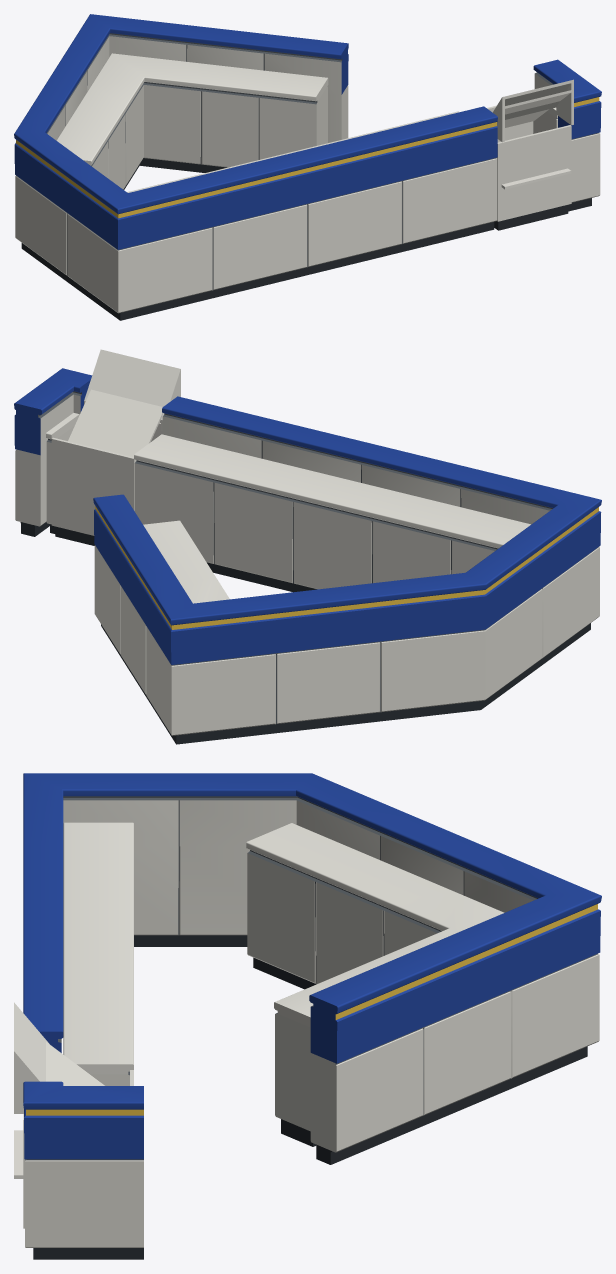
Rendered from exit-return-counter.glb.
3 views of the same model, one above another, from view 1: azimuth 30°, elevation 25°; view 2: azimuth 150°, elevation 25°; view 3: azimuth 270°, elevation 25° (orthographic). The views are drawn at different scales.
Parts seen in each view (by area): view 1: ExitReturnCounter; view 2: ExitReturnCounter; view 3: ExitReturnCounter.
Boxes of the visible parts, box(x1,y1,x2,y2) form: ExitReturnCounter: box(14, 14, 601, 320); ExitReturnCounter: box(14, 349, 601, 744); ExitReturnCounter: box(14, 773, 601, 1259).
Bounding box in the file's own units: 15.5 × 4.2 × 11.68.
